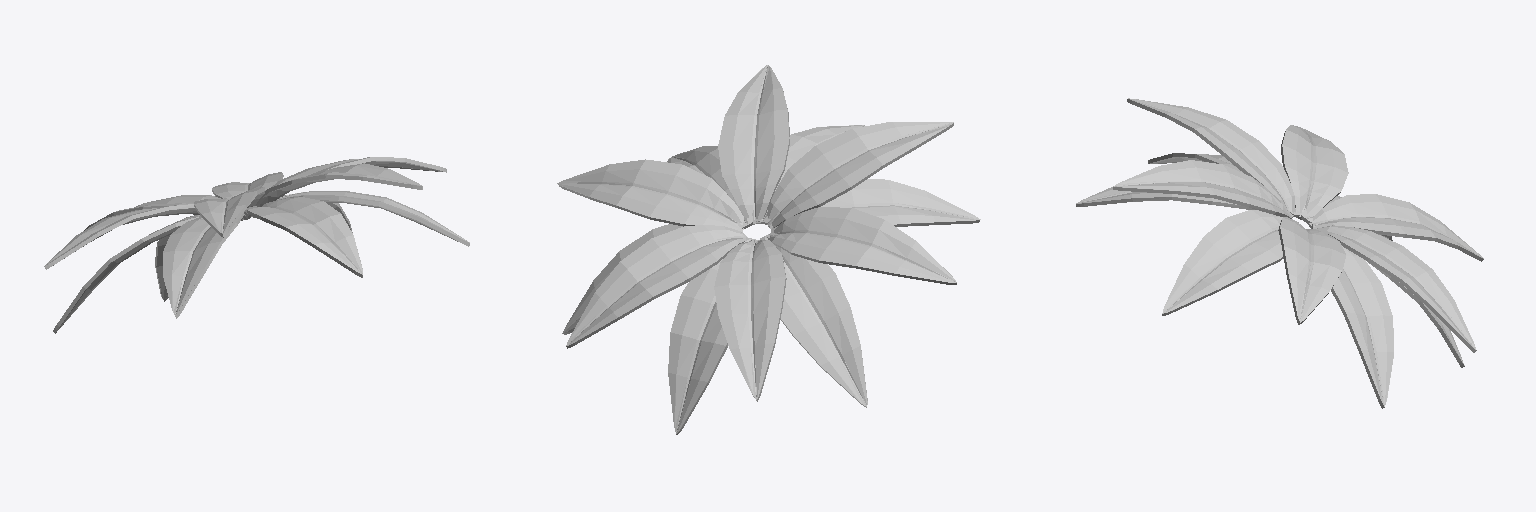
Rendered from Hojas_Palmera_1_L.obj.
The picture shows the model from 3 angles: view 1: azimuth 30°, elevation 25°; view 2: azimuth 150°, elevation 25°; view 3: azimuth 270°, elevation 25°; orthographic projection.
Parts seen in each view (by area): view 1: Plane.014_Plane.034; view 2: Plane.014_Plane.034; view 3: Plane.014_Plane.034.
Boxes of the visible parts, box(x1,y1,x2,y2) form: Plane.014_Plane.034: box(44, 157, 469, 333); Plane.014_Plane.034: box(557, 65, 980, 434); Plane.014_Plane.034: box(1076, 98, 1483, 408).
Size of the model in its own units: 73.36 by 39.29 by 64.71.